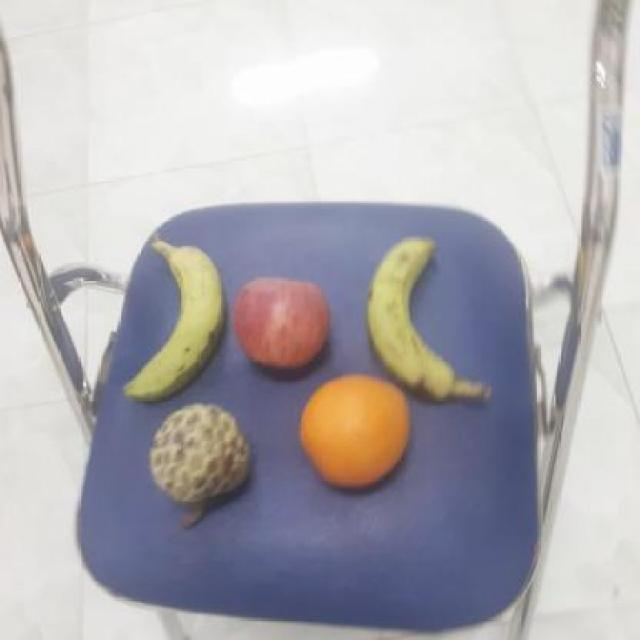apple: (231, 275, 335, 370)
banana: (116, 240, 229, 405), (360, 229, 468, 400)
oren: (296, 372, 412, 488)
sugar apple: (145, 402, 253, 504)
